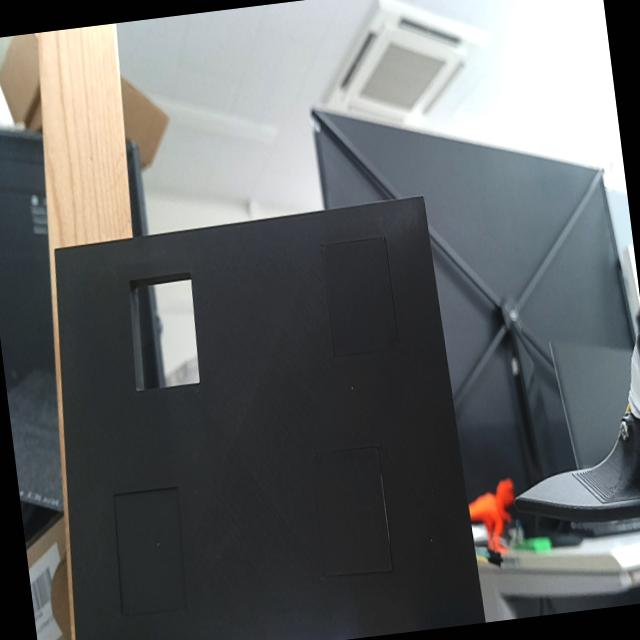Obstacle: (129, 274, 200, 389)
Wall: (54, 196, 486, 640)
